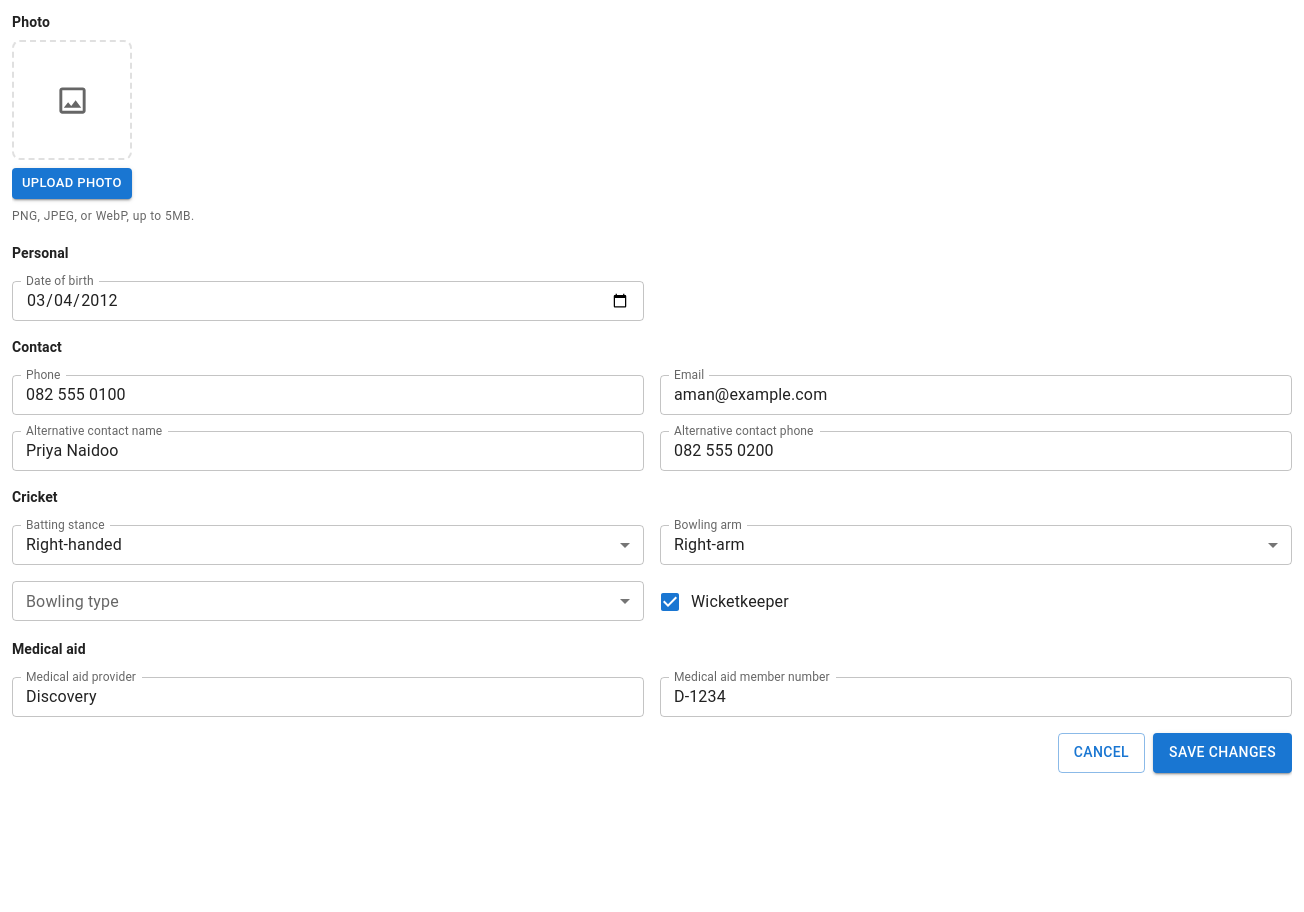
Test: MyPlayerEditForm date of birth › changing it back to the stored value removes the warning and re-enables Save
Type "2011-03-04" into the date field labelled "Date of birth" at (328, 301), box [12,281,644,321]
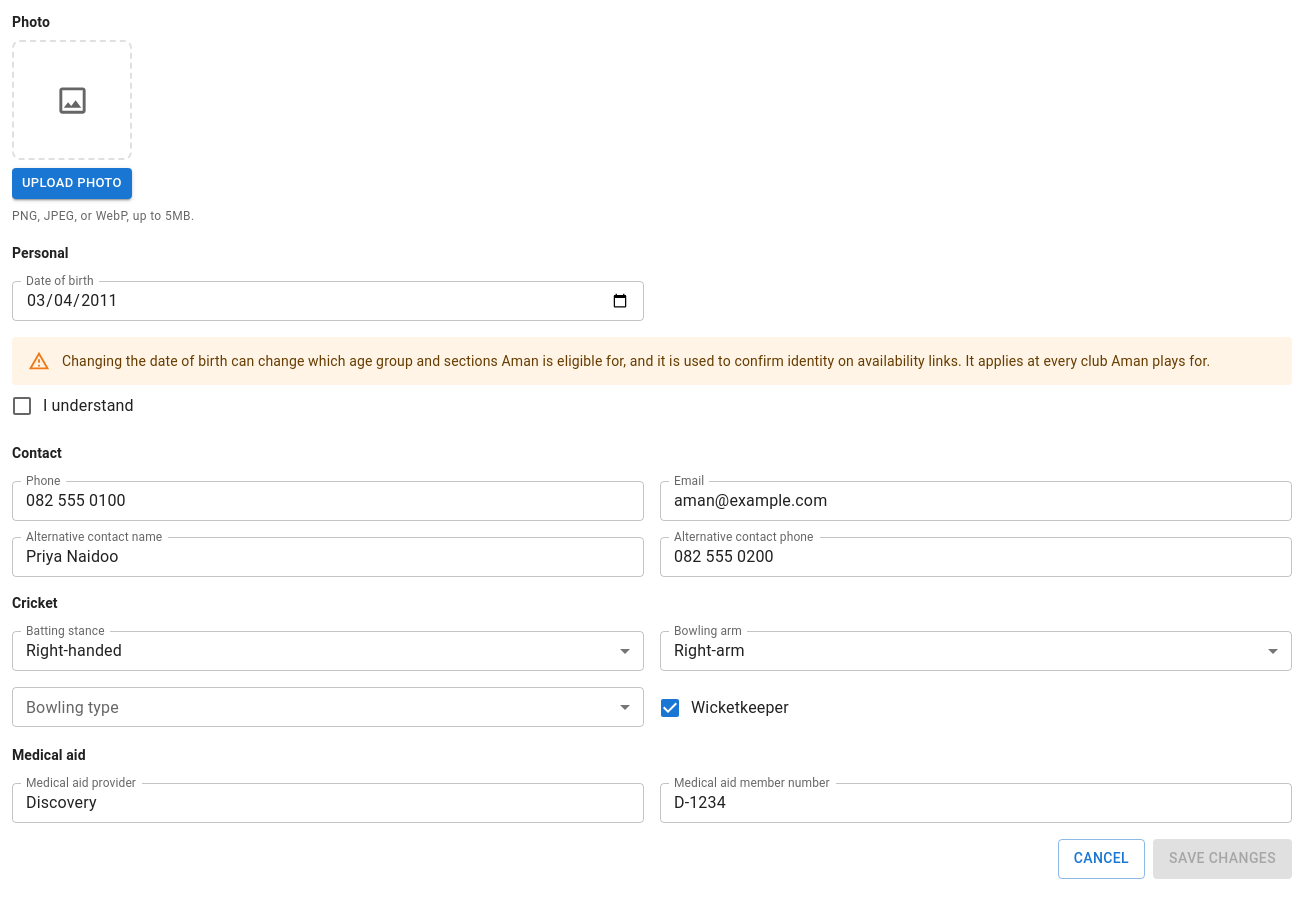
Now the button "Save changes" is disabled, box [1153,839,1292,879]
Type "2012-03-04" into the date field labelled "Date of birth" at (328, 301), box [12,281,644,321]
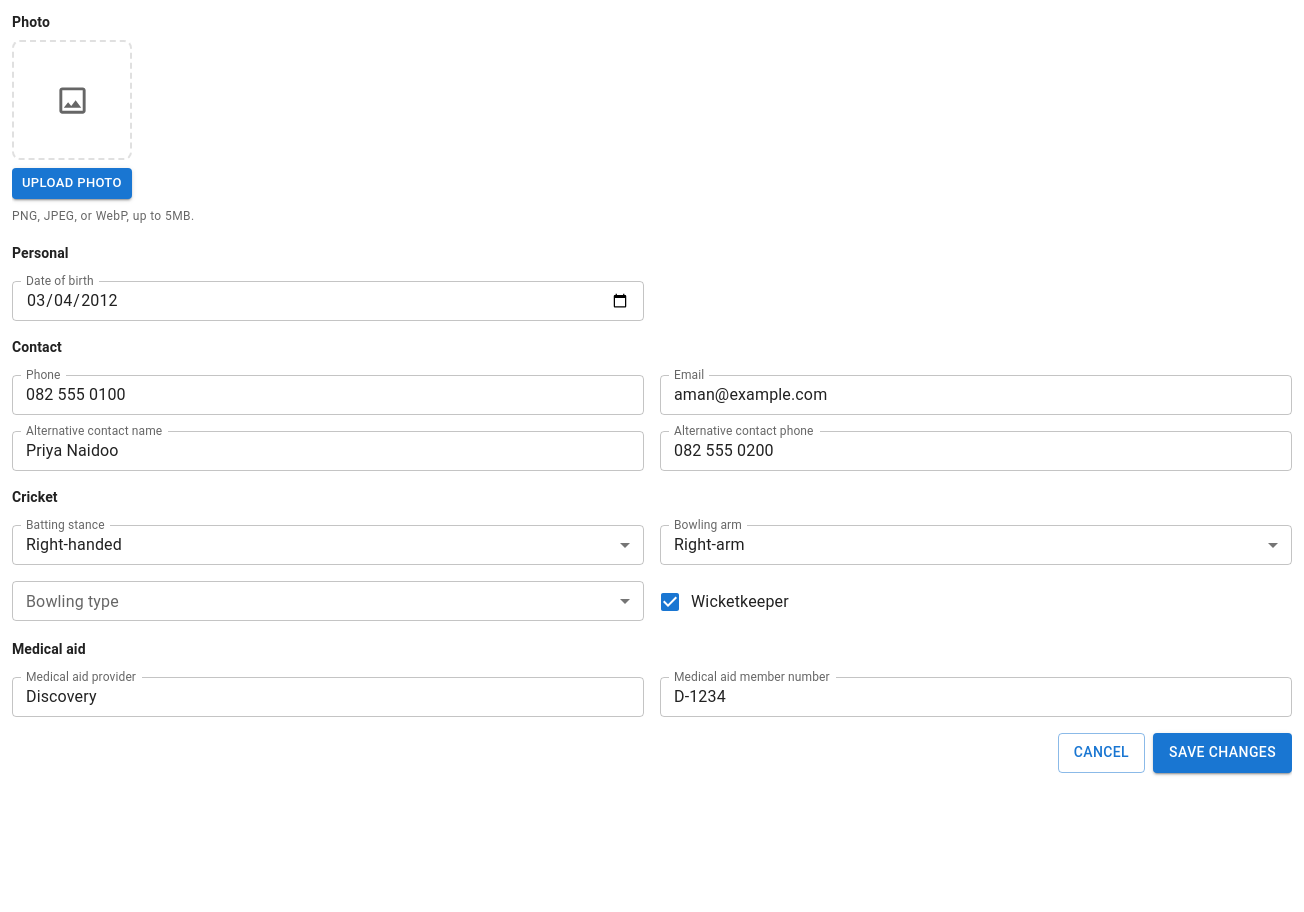
Now the message with test id "dob-warning" is gone
Now the button "Save changes" is enabled, box [1153,732,1292,772]
